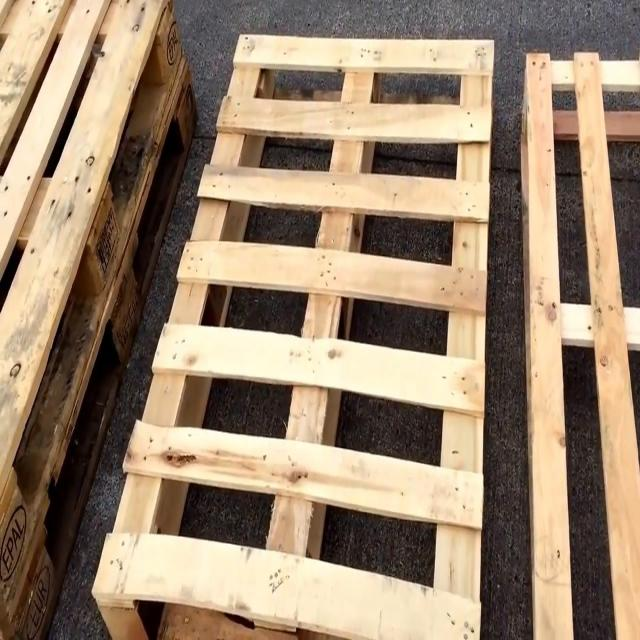Palette: (91, 2, 504, 640), (0, 0, 202, 640), (523, 0, 640, 640)
